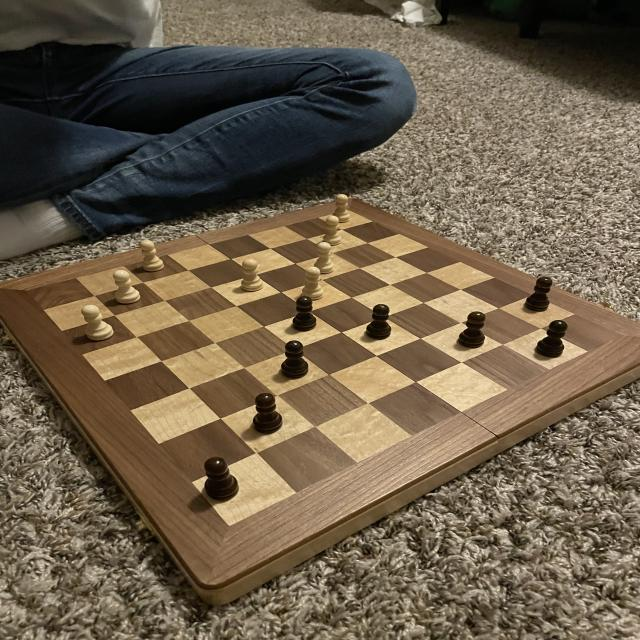black-knight: (249, 391, 292, 436), (201, 454, 240, 502), (453, 308, 490, 352), (533, 319, 571, 360), (276, 339, 312, 382), (362, 302, 398, 343), (286, 293, 320, 335), (522, 274, 556, 313)
white-knight: (76, 302, 116, 342), (110, 267, 144, 307), (236, 256, 268, 295), (135, 238, 169, 274), (297, 265, 328, 303), (318, 213, 350, 249), (309, 241, 340, 277), (325, 191, 358, 224)
